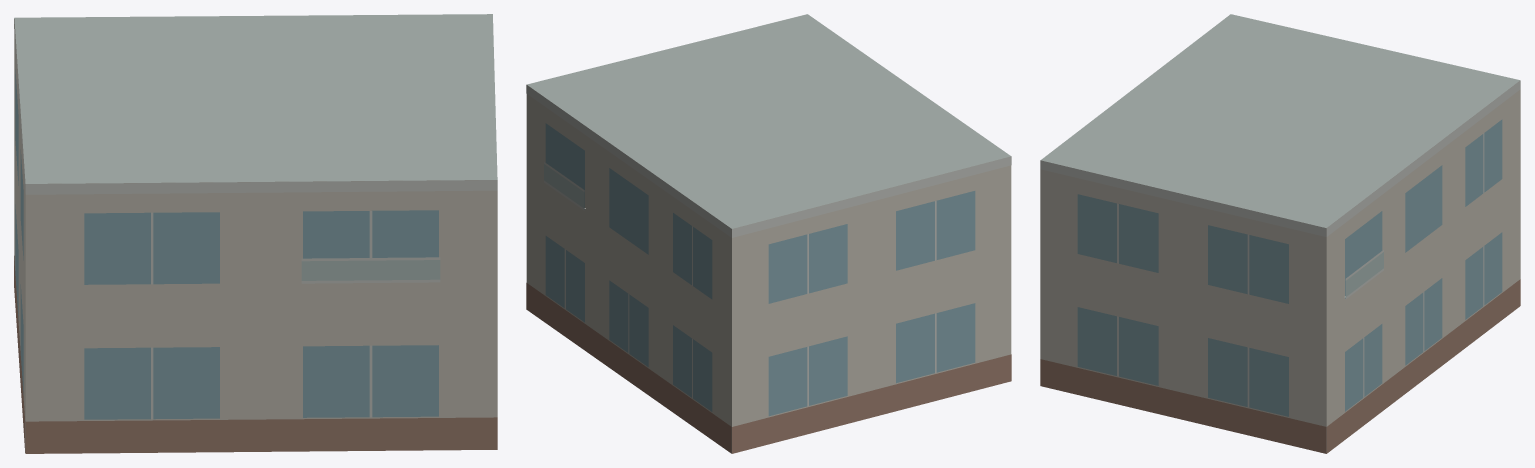
File: survey-upis-32739135.glb
3 renders of one model, left to right at view 1: azimuth 30°, elevation 25°; view 2: azimuth 150°, elevation 25°; view 3: azimuth 270°, elevation 25°, orthographic. The views are drawn at different scales.
Parts seen in each view (by area): view 1: survey-upis-32739135.tmp; view 2: survey-upis-32739135.tmp; view 3: survey-upis-32739135.tmp.
Boxes of the visible parts, x1=… form: survey-upis-32739135.tmp: x1=14, y1=14, x2=497, y2=453; survey-upis-32739135.tmp: x1=526, y1=14, x2=1011, y2=453; survey-upis-32739135.tmp: x1=1040, y1=14, x2=1520, y2=453.
Size of the model in its own units: 12.42 by 6.1 by 11.77.
